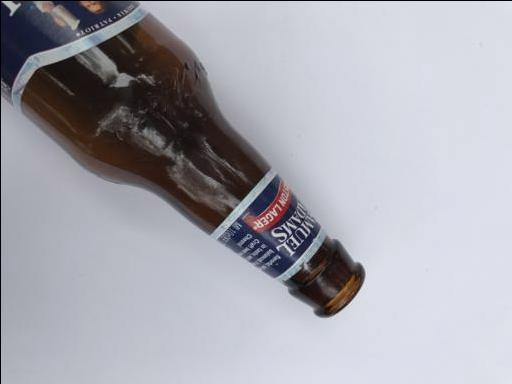alcohol: (1, 1, 366, 319)
glass: (1, 1, 366, 319)
sodocalcique: (1, 1, 366, 319)
